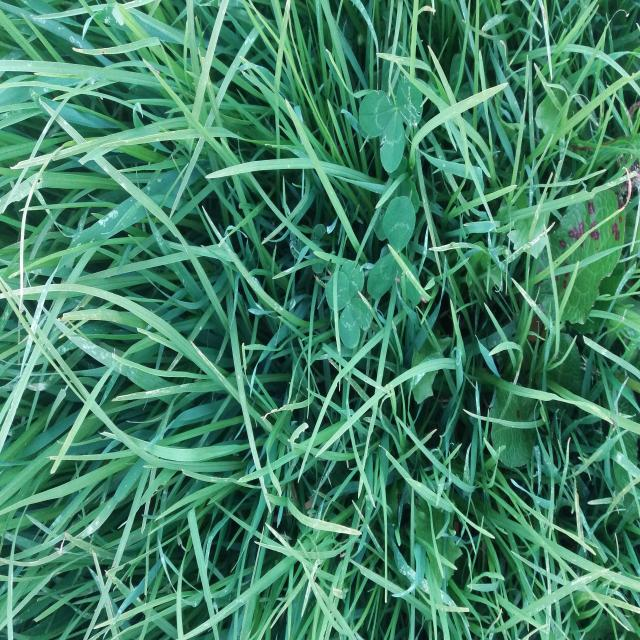Four Leaf Clover: (325, 260, 371, 348)
